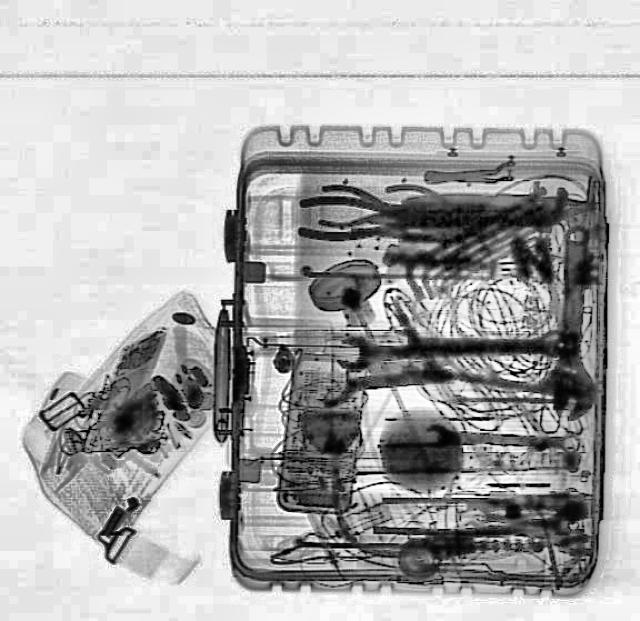Pliers: (296, 194, 436, 240)
Wrench: (332, 323, 564, 373), (544, 222, 600, 421)
